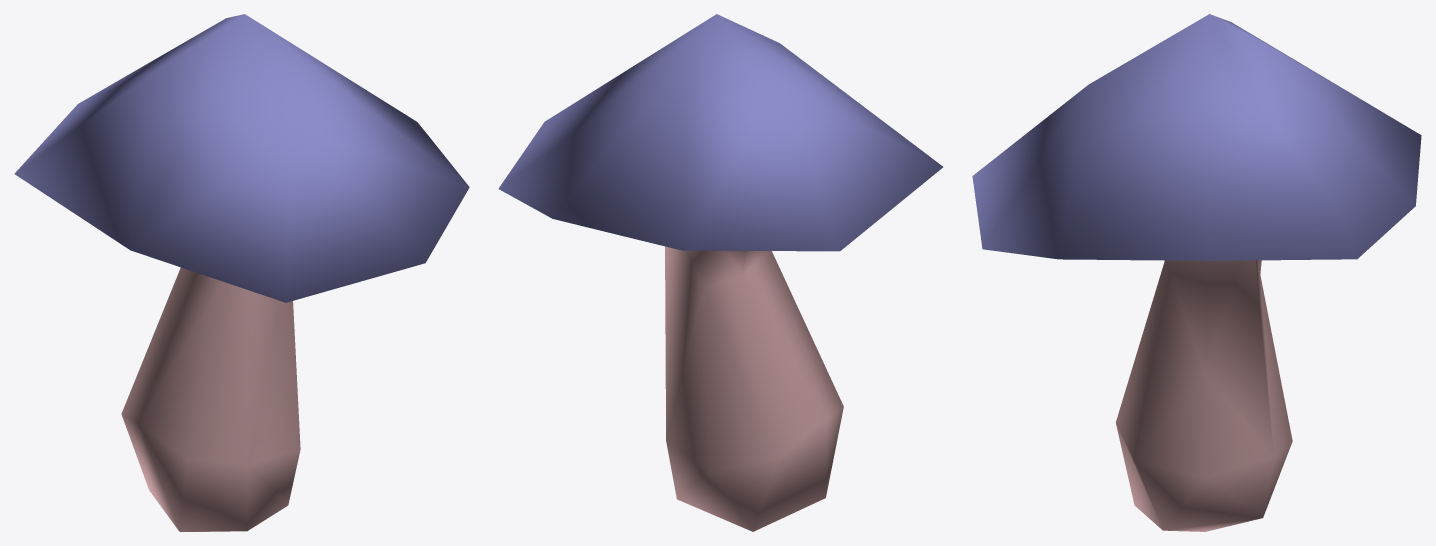
Rendered from Dark Area Mushroom.fbx.
3 views of the same model, side by side, from view 1: azimuth 30°, elevation 25°; view 2: azimuth 150°, elevation 25°; view 3: azimuth 270°, elevation 25° (orthographic). The views are drawn at different scales.
Visible parts, largest first — view 1: Dark Area Mushroom; view 2: Dark Area Mushroom; view 3: Dark Area Mushroom.
Boxes of the visible parts, x1,y1,x2,y2 form: Dark Area Mushroom: [14, 14, 469, 531]; Dark Area Mushroom: [498, 14, 943, 531]; Dark Area Mushroom: [972, 14, 1421, 531].
Bounding box in the file's own units: 73.61 × 102 × 77.73.
